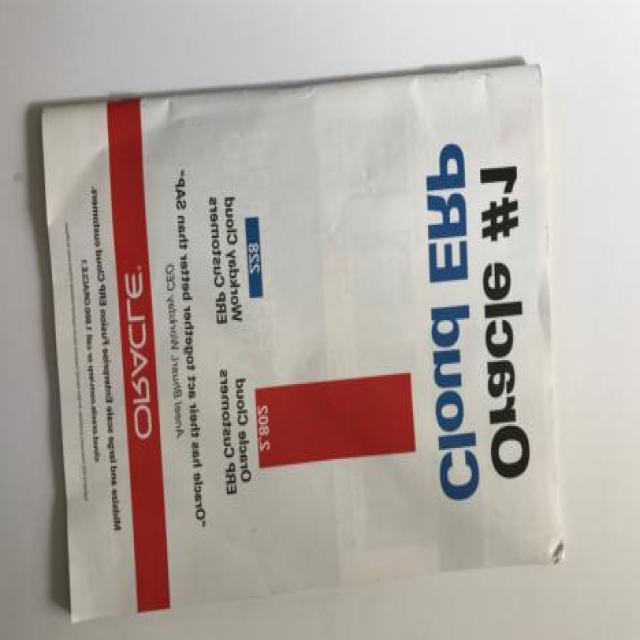kertas: (39, 64, 564, 625)
